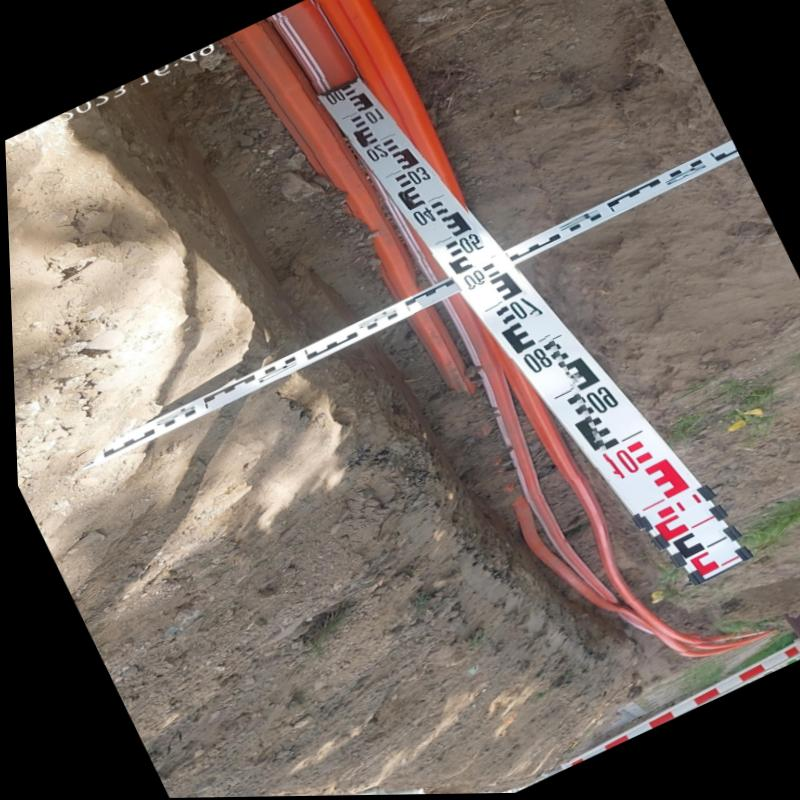Orang-Speednetrohrchen: (403, 292, 696, 655), (223, 0, 466, 303)
